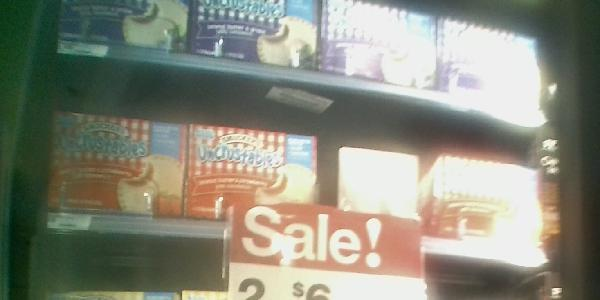icecream: (42, 96, 199, 234), (185, 109, 323, 245), (425, 140, 546, 242), (335, 132, 434, 253)
